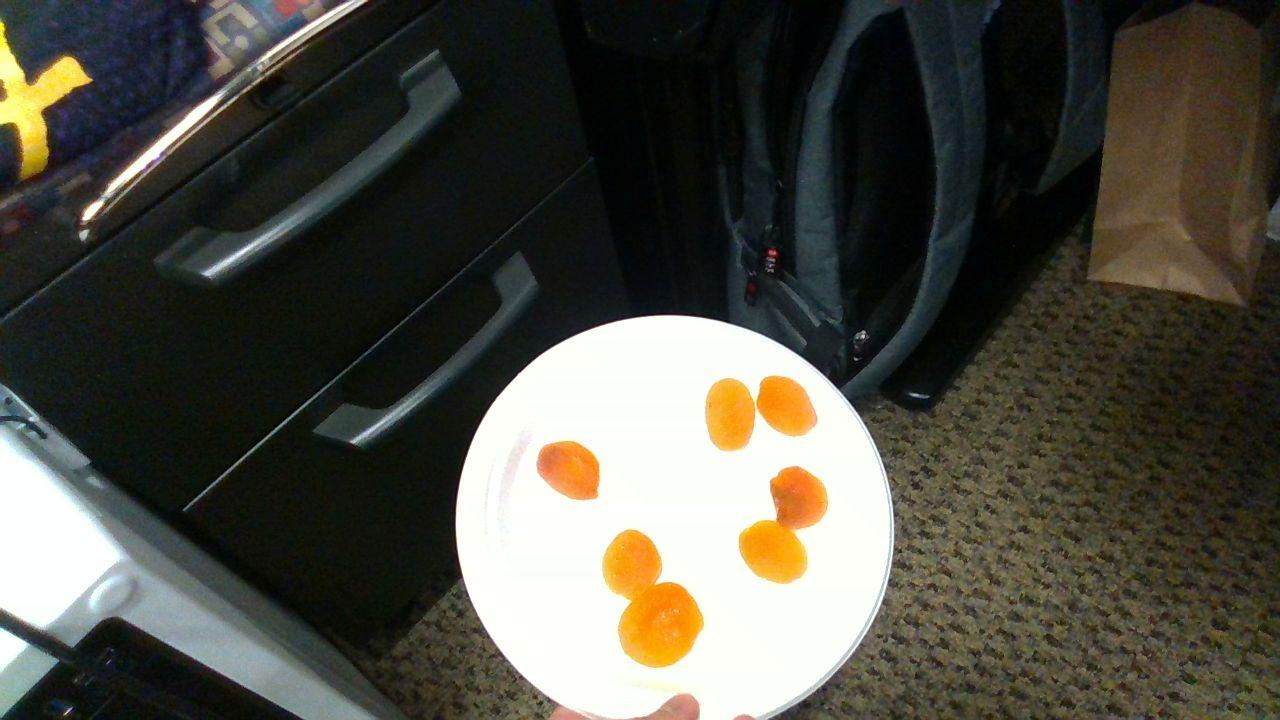apricot: (620, 583, 703, 666), (740, 521, 808, 583), (604, 529, 662, 600), (538, 441, 600, 500), (757, 377, 817, 437), (771, 467, 828, 530), (707, 379, 756, 451)
plate: (457, 315, 893, 719)
